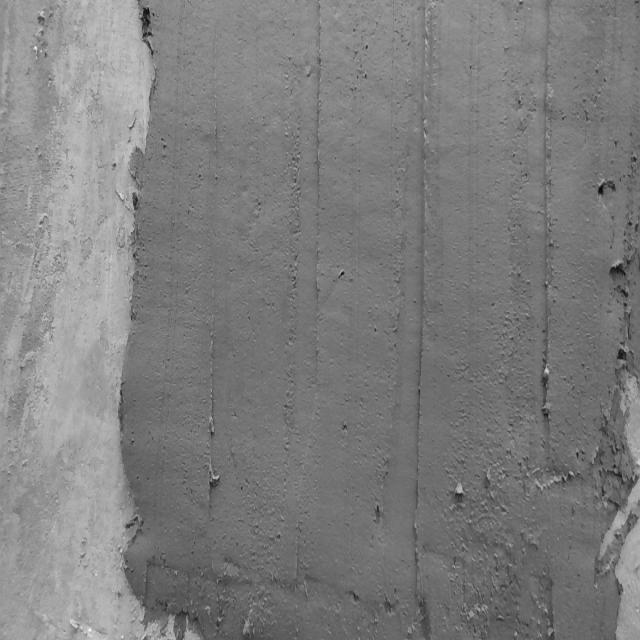trowels marks: (409, 10, 432, 610), (202, 37, 224, 550), (536, 8, 560, 468), (308, 7, 326, 418)
